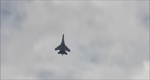maybay_muctieu: (54, 32, 71, 56)
